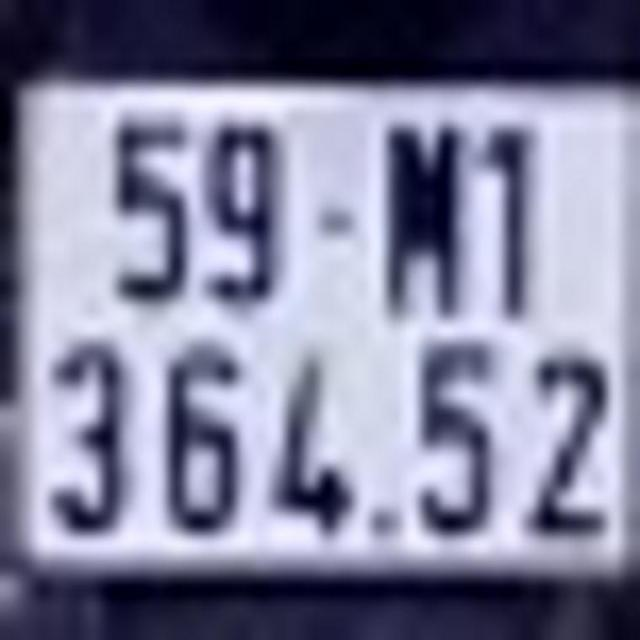1: (474, 116, 536, 322)
2: (520, 329, 618, 529)
3: (42, 323, 130, 535)
4: (266, 327, 356, 532)
5: (406, 330, 504, 534), (111, 110, 196, 300)
6: (150, 324, 250, 528)
9: (205, 113, 282, 314)
M: (378, 111, 462, 322)
